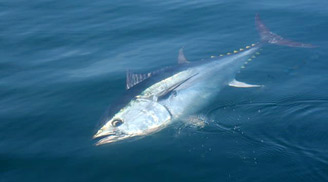Bluefina Tuna: (85, 12, 322, 161)
